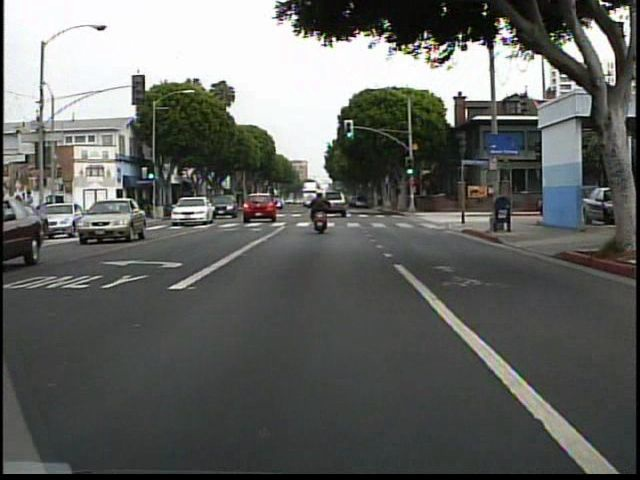person: (307, 185, 338, 243)
